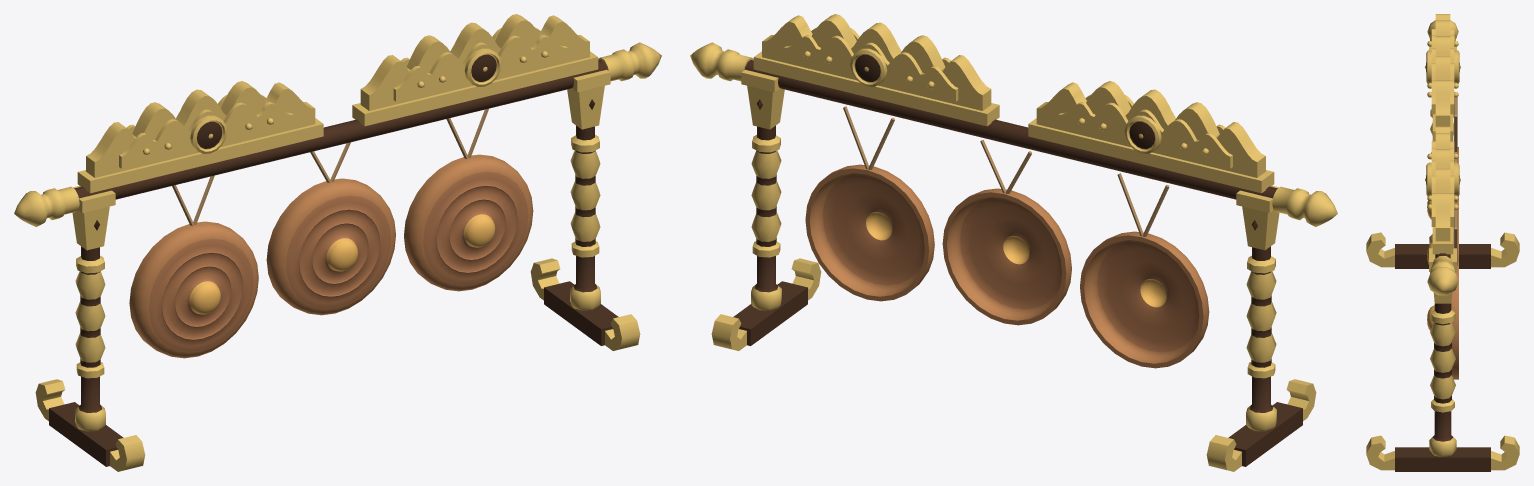
File: KempulSet.fbx
The picture shows the model from 3 angles, left to right: view 1: azimuth 30°, elevation 25°; view 2: azimuth 150°, elevation 25°; view 3: azimuth 270°, elevation 25°; orthographic projection. The views are drawn at different scales.
Visible parts, largest first — view 1: KempulSet_Mesh; view 2: KempulSet_Mesh; view 3: KempulSet_Mesh.
Part boxes in pixels (box(x1,y1,x2,y2)): KempulSet_Mesh: box(14, 14, 661, 471); KempulSet_Mesh: box(690, 14, 1337, 471); KempulSet_Mesh: box(1366, 14, 1519, 471).
Bounding box in the file's own units: 1.2 × 0.574 × 0.294.
